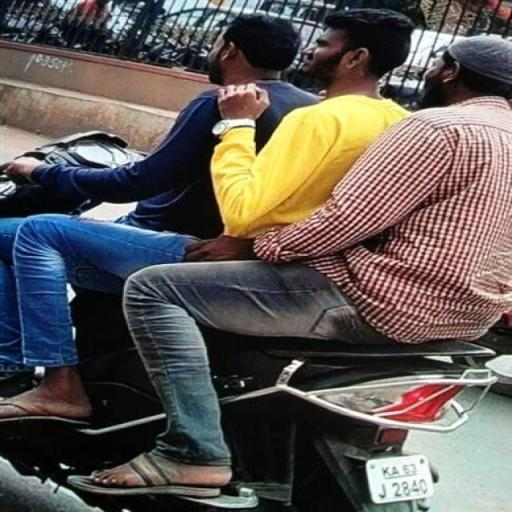tripple riding: (1, 4, 512, 401)
